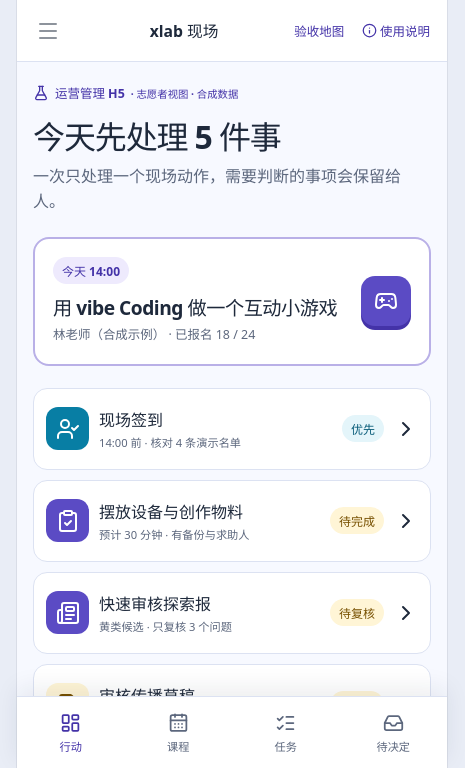
Test: xlab OPS-0 operations prototype › lets a mobile volunteer complete a task with evidence text
Click the button with aria-label "查看志愿任务". click: (232, 521)
box: top-left (33, 480), bottom-right (431, 562)
(page scrolled)
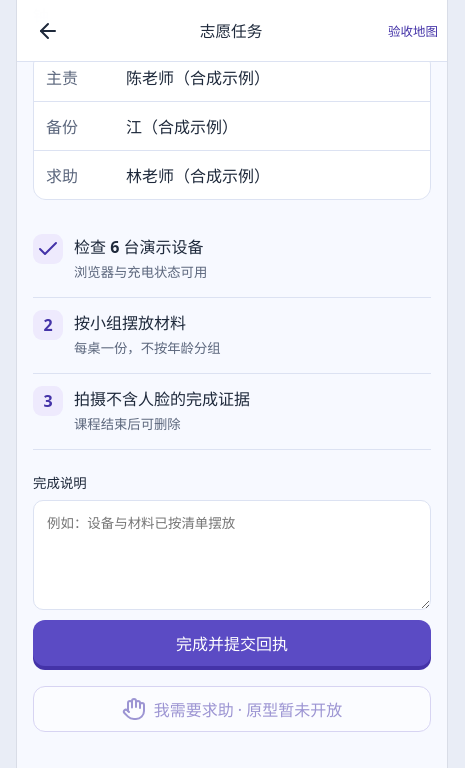
Type "物料已按清单摆放，照片待课程结束后整理。" into the text box labelled "完成说明". click: (232, 555)
box: top-left (33, 500), bottom-right (431, 610)
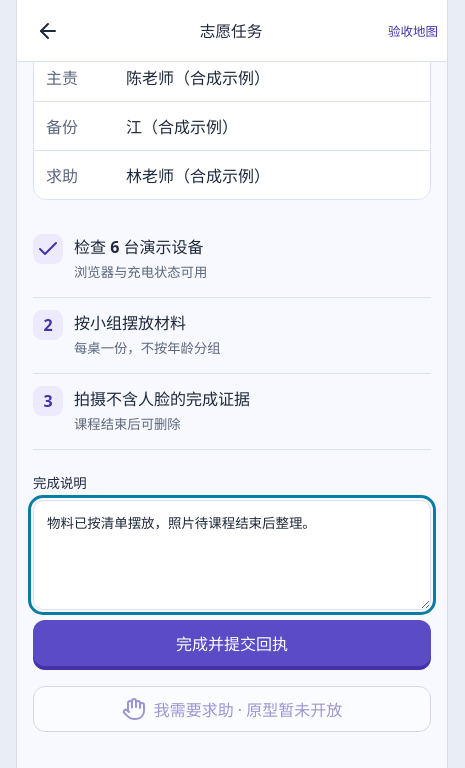
Click the button "完成并提交回执". click: (232, 643)
box: top-left (33, 620), bottom-right (431, 666)
(page scrolled)
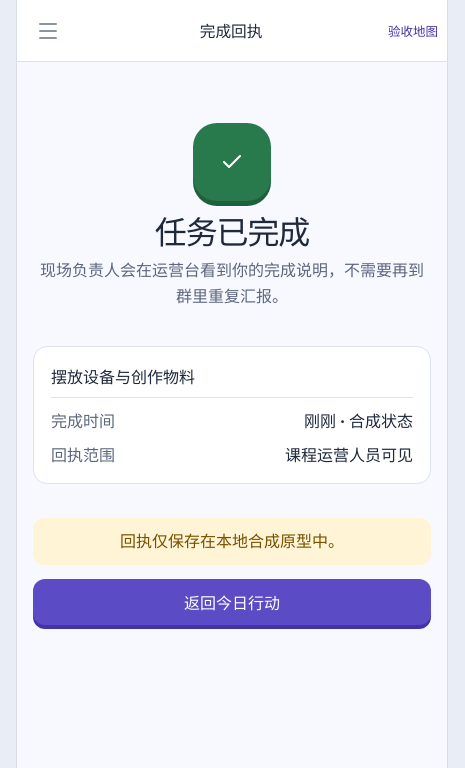
Result: the heading "任务已完成" is shown at top-left (155, 210), bottom-right (309, 253)
Result: the text "回执仅保存在本地合成原型中。" is shown at top-left (33, 518), bottom-right (431, 565)
